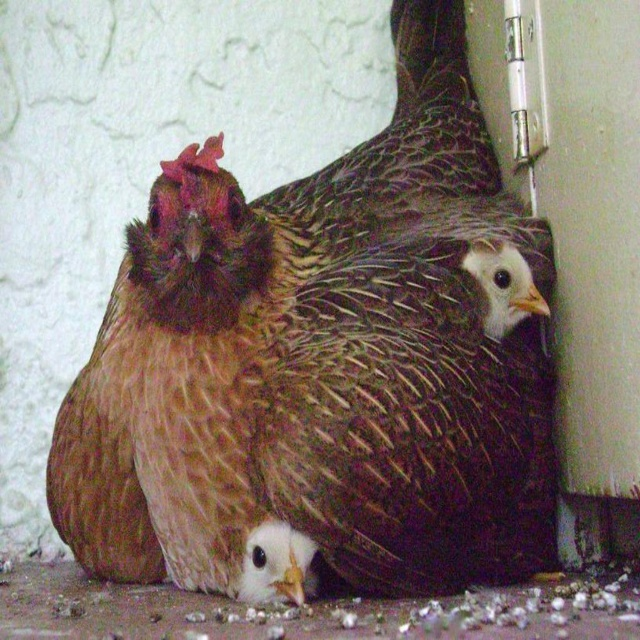Chicken: (40, 65, 562, 637)
